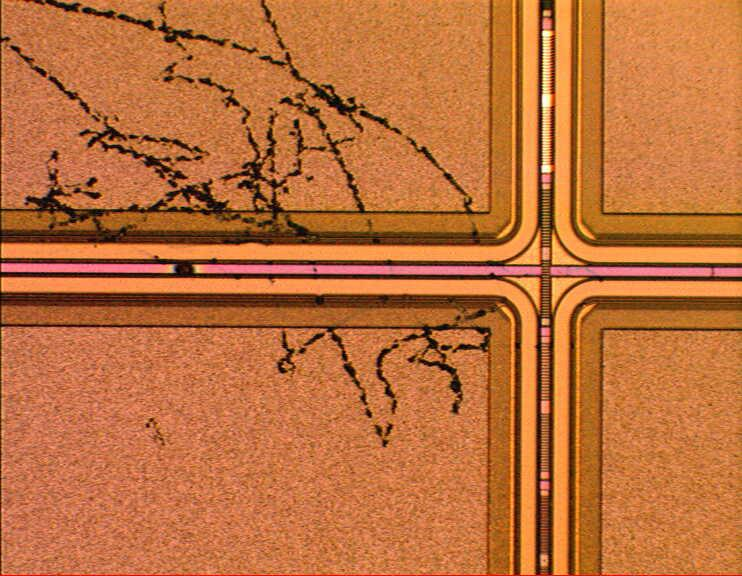SCRATCH: (1, 1, 507, 454)
